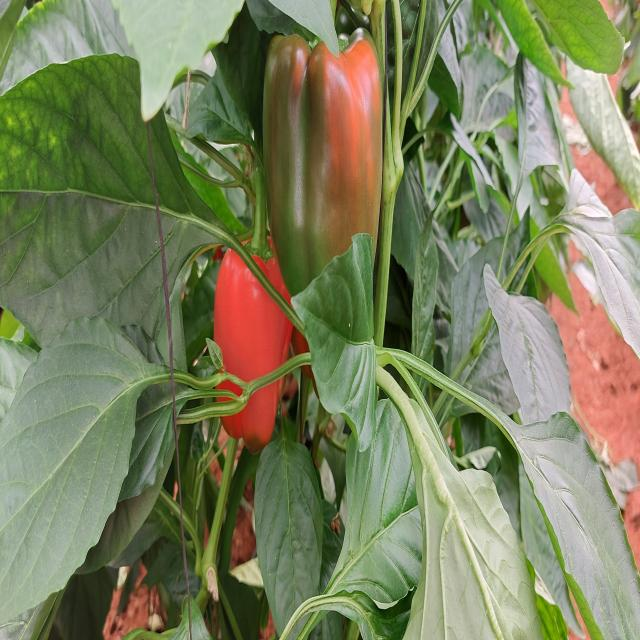BrownishRed--Can-be-Harvested: (262, 26, 381, 342), (210, 256, 291, 456)
